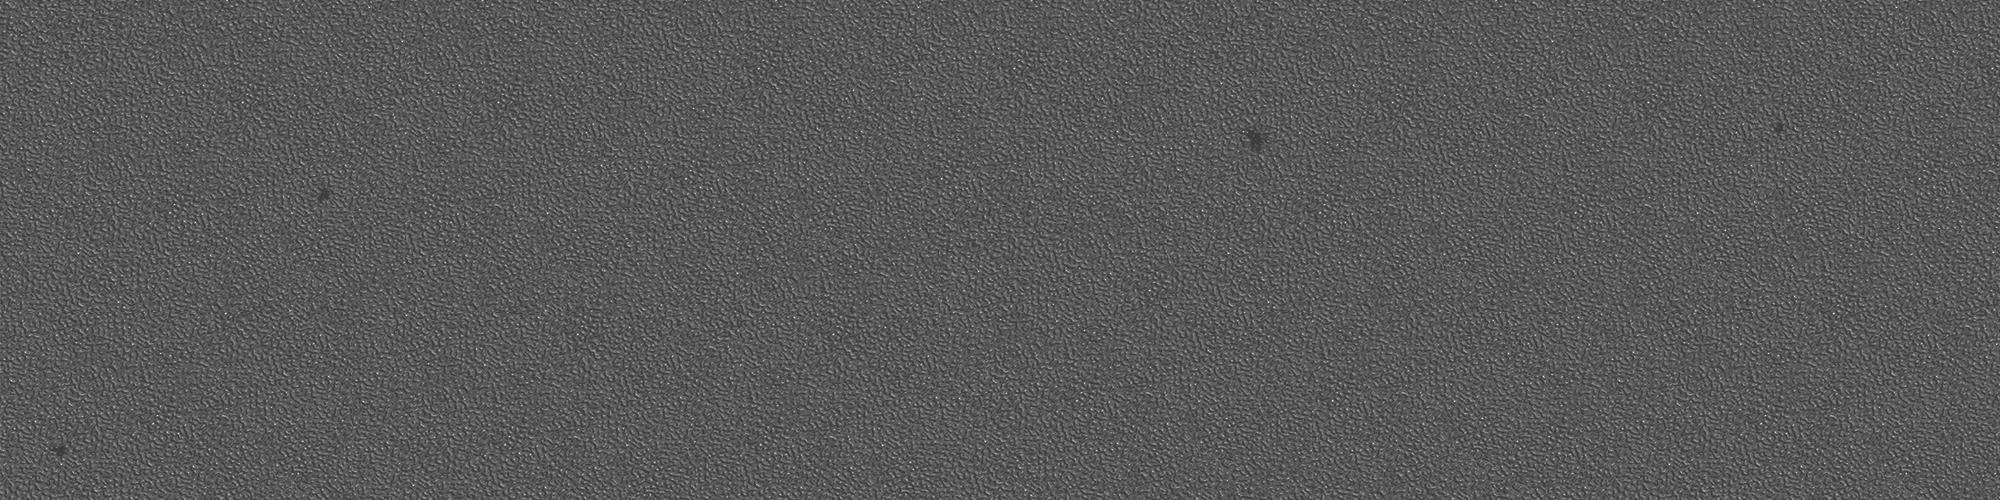Decomposed: (1241, 128, 1286, 153), (311, 187, 332, 208), (54, 439, 70, 459)
